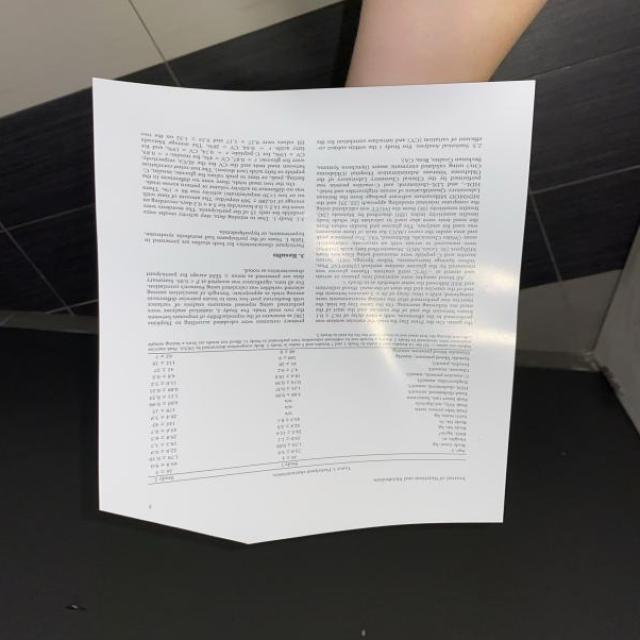kertas: (92, 80, 533, 544)
